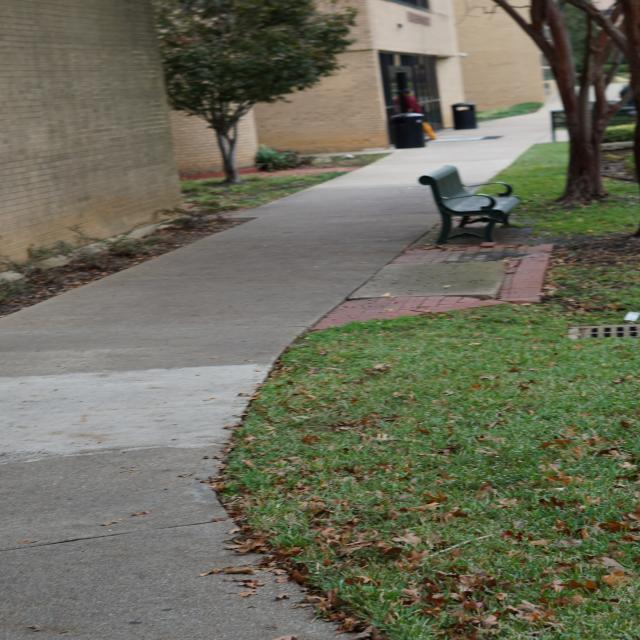Obstacle: (419, 166, 520, 245), (390, 113, 425, 149), (452, 103, 477, 130)
Person: (397, 88, 424, 116), (421, 120, 436, 140)
Sidewalk: (0, 110, 548, 640)
